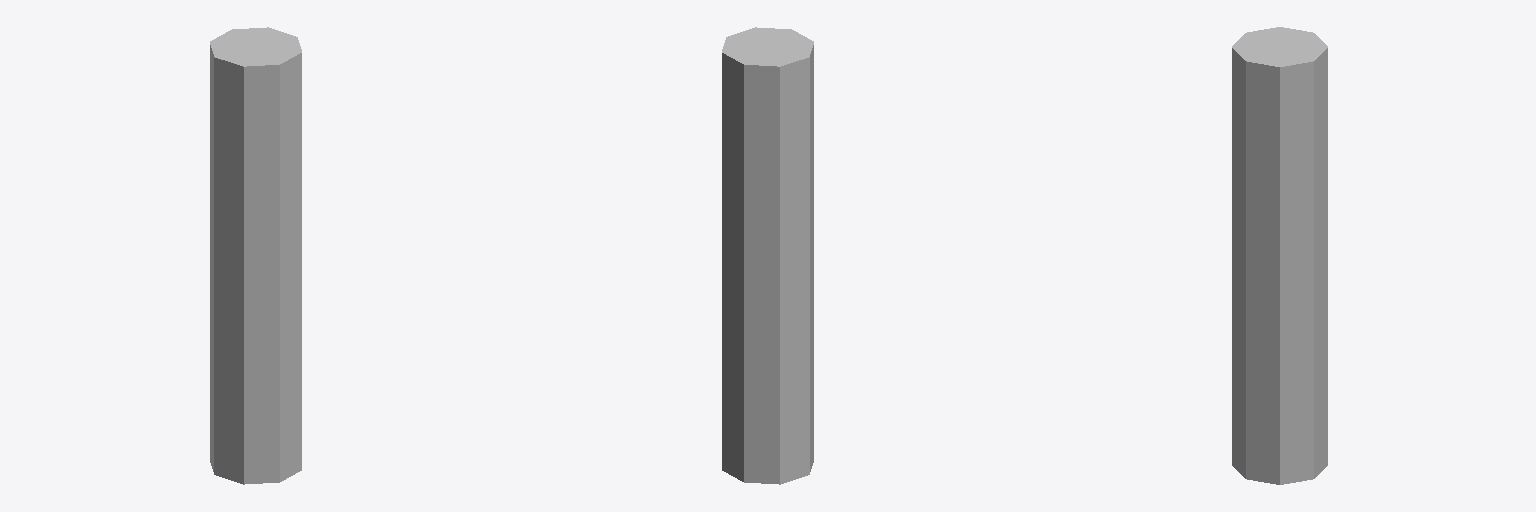
The model's file is rope.obj.
3 renders of one model, left to right at view 1: azimuth 30°, elevation 25°; view 2: azimuth 150°, elevation 25°; view 3: azimuth 270°, elevation 25°, orthographic.
Visible parts, largest first — view 1: rope; view 2: rope; view 3: rope.
Part boxes in pixels (left/top/right/bottom): rope: left=210, top=27, right=301, bottom=484; rope: left=722, top=27, right=813, bottom=484; rope: left=1232, top=27, right=1327, bottom=484.
Size of the model in its own units: 0.2104 by 1.01 by 0.2104.